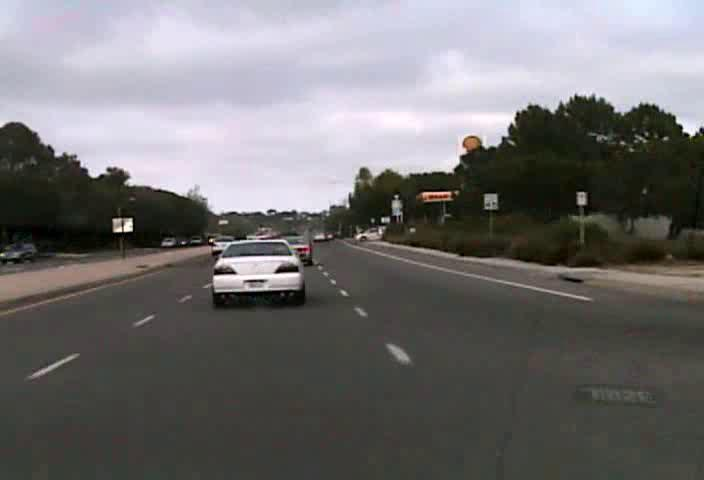speedLimit45: (483, 192, 498, 210)
